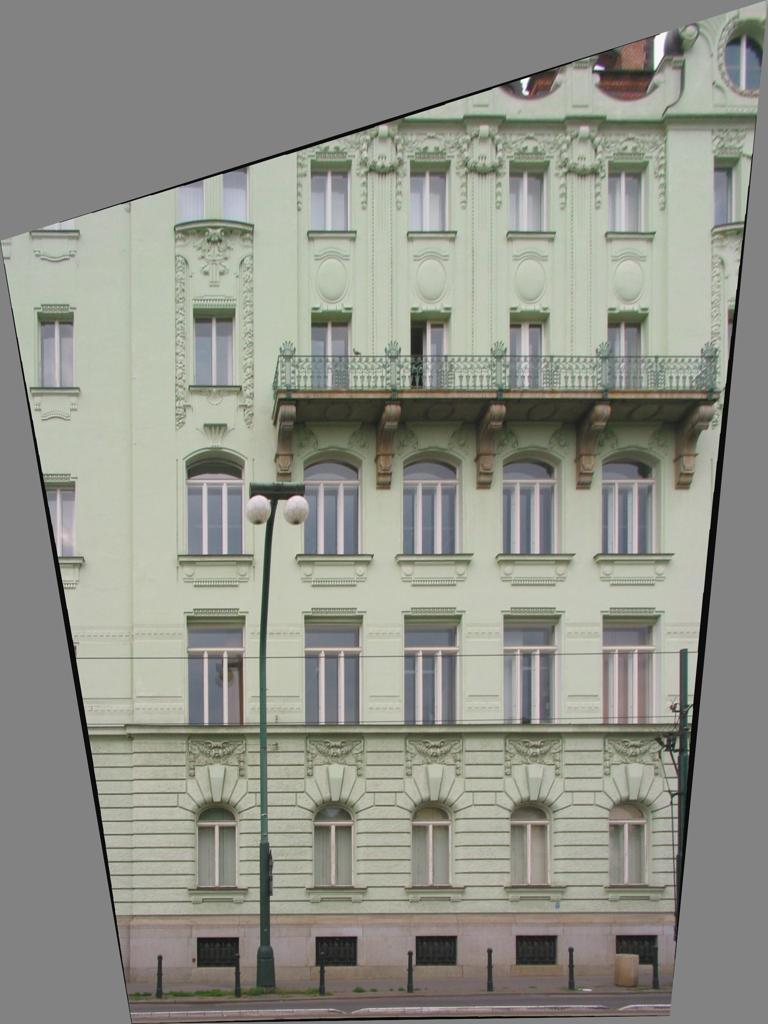window: (304, 615, 364, 725), (187, 616, 246, 725), (405, 615, 463, 725), (504, 615, 562, 724), (603, 615, 661, 724), (304, 451, 364, 555), (602, 451, 661, 555), (186, 452, 245, 555), (503, 451, 562, 554), (404, 451, 463, 554), (716, 17, 764, 98), (609, 801, 652, 887), (195, 805, 239, 889), (312, 804, 355, 889), (511, 804, 552, 888), (412, 805, 453, 888), (194, 309, 236, 386), (411, 313, 452, 391), (509, 311, 548, 393), (609, 313, 649, 391), (312, 313, 353, 389), (409, 161, 452, 232), (310, 162, 352, 233), (509, 161, 551, 232), (607, 161, 649, 232), (37, 311, 75, 387), (39, 481, 76, 558), (715, 157, 741, 226), (221, 162, 250, 222), (177, 163, 205, 223), (197, 938, 240, 967), (315, 938, 357, 967), (615, 935, 657, 964), (417, 938, 459, 966), (518, 936, 560, 964)
